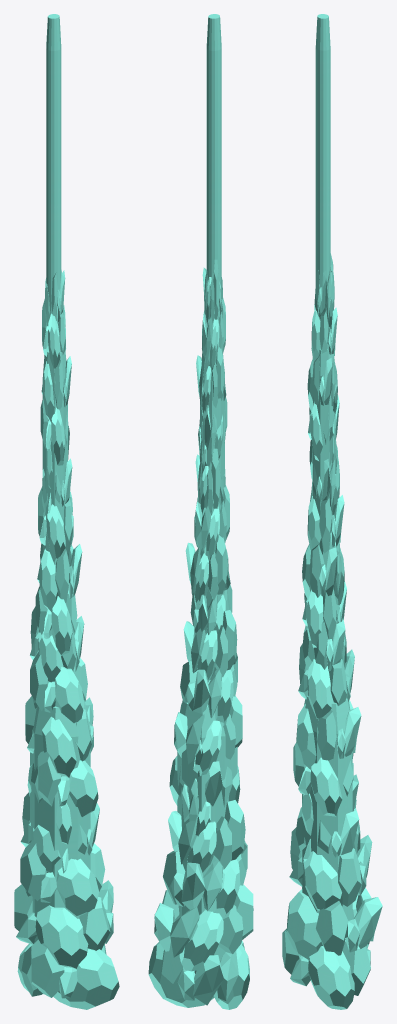
File: Tower.gltf
3 views of the same model, side by side, from view 1: azimuth 30°, elevation 25°; view 2: azimuth 210°, elevation 25°; view 3: azimuth 330°, elevation 25° (orthographic).
Parts seen in each view (by area): view 1: Cylinder (×3), Truncated Icosahedron 4 (×4), Truncated Icosahedron (×4), Truncated Icosahedron 5 (×4), Dodecahedron (×3), Dodecahedron 5 (×4), Dodecahedron 7 (×2), Truncated Icosahedron 7 (×2), Dodecahedron 8 (×3), Dodecahedron 6 (×2), Crystal (×2), Crystal 8 (×2) (+6 smaller); view 2: Cylinder (×3), Truncated Icosahedron 3 (×4), Truncated Icosahedron 6 (×4), Dodecahedron 12 (×4), Dodecahedron 6 (×4), Crystal 4 (×3), Truncated Icosahedron 8 (×3), Crystal 12 (×3), Crystal 7 (×3), Dodecahedron 4 (×3), Crystal 11 (×3), Crystal 2 (×3) (+11 smaller); view 3: Cylinder (×3), Truncated Icosahedron (×4), Truncated Icosahedron 5 (×4), Truncated Icosahedron 4 (×3), Dodecahedron 5 (×4), Dodecahedron 8 (×4), Crystal 8 (×4), Dodecahedron 2 (×2), Crystal 16 (×3), Dodecahedron (×2), Dodecahedron 10 (×2), Crystal 12 (×2) (+6 smaller).
Boxes of the visible parts, bbox=[...] form: Cylinder (×3): bbox=[30, 14, 90, 942]; Truncated Icosahedron 4 (×4): bbox=[35, 361, 88, 968]; Truncated Icosahedron (×4): bbox=[51, 407, 119, 1009]; Truncated Icosahedron 5 (×4): bbox=[46, 313, 98, 915]; Dodecahedron (×3): bbox=[31, 585, 64, 997]; Dodecahedron 5 (×4): bbox=[54, 359, 110, 950]; Dodecahedron 7 (×2): bbox=[20, 651, 48, 900]; Truncated Icosahedron 7 (×2): bbox=[33, 631, 63, 872]; Dodecahedron 8 (×3): bbox=[63, 498, 105, 891]; Dodecahedron 6 (×2): bbox=[14, 696, 36, 930]; Crystal (×2): bbox=[57, 776, 77, 998]; Crystal 8 (×2): bbox=[70, 544, 113, 912]; Cylinder (×3): bbox=[177, 14, 237, 973]; Truncated Icosahedron 3 (×4): bbox=[179, 366, 223, 971]; Truncated Icosahedron 6 (×4): bbox=[204, 316, 240, 917]; Dodecahedron 12 (×4): bbox=[211, 259, 245, 860]; Dodecahedron 6 (×4): bbox=[215, 346, 253, 939]; Crystal 4 (×3): bbox=[193, 594, 223, 1005]; Truncated Icosahedron 8 (×3): bbox=[187, 466, 217, 873]; Crystal 12 (×3): bbox=[181, 501, 209, 909]; Crystal 7 (×3): bbox=[170, 547, 204, 957]; Dodecahedron 4 (×3): bbox=[207, 551, 243, 953]; Crystal 11 (×3): bbox=[201, 506, 222, 911]; Crystal 2 (×3): bbox=[207, 594, 238, 1000]; Cylinder (×3): bbox=[302, 14, 352, 920]; Truncated Icosahedron (×4): bbox=[306, 402, 354, 1009]; Truncated Icosahedron 5 (×4): bbox=[303, 308, 342, 910]; Truncated Icosahedron 4 (×3): bbox=[286, 544, 322, 959]; Dodecahedron 5 (×4): bbox=[309, 356, 348, 955]; Dodecahedron 8 (×4): bbox=[319, 309, 361, 906]; Crystal 8 (×4): bbox=[324, 358, 382, 948]; Dodecahedron 2 (×2): bbox=[323, 589, 370, 995]; Crystal 16 (×3): bbox=[321, 459, 359, 854]; Dodecahedron (×2): bbox=[282, 743, 306, 974]; Dodecahedron 10 (×2): bbox=[314, 621, 331, 853]; Crystal 12 (×2): bbox=[334, 495, 372, 877].
Size of the model in its own units: 0.6585 by 6.68 by 0.5978.
Materials: 1 (1 with a texture image).
